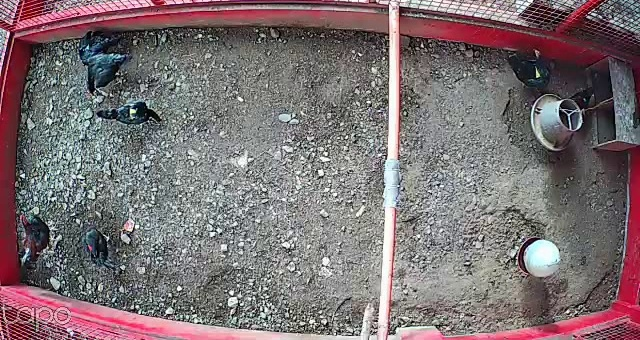Chicken: (498, 45, 556, 97), (80, 51, 138, 97), (95, 99, 169, 131), (74, 26, 127, 70), (83, 223, 120, 274), (563, 82, 601, 112)
Rooster: (14, 209, 60, 276)
Saddle_Color_Red: (87, 243, 93, 251)
Saddle_Color_Yellow: (131, 105, 139, 119)
